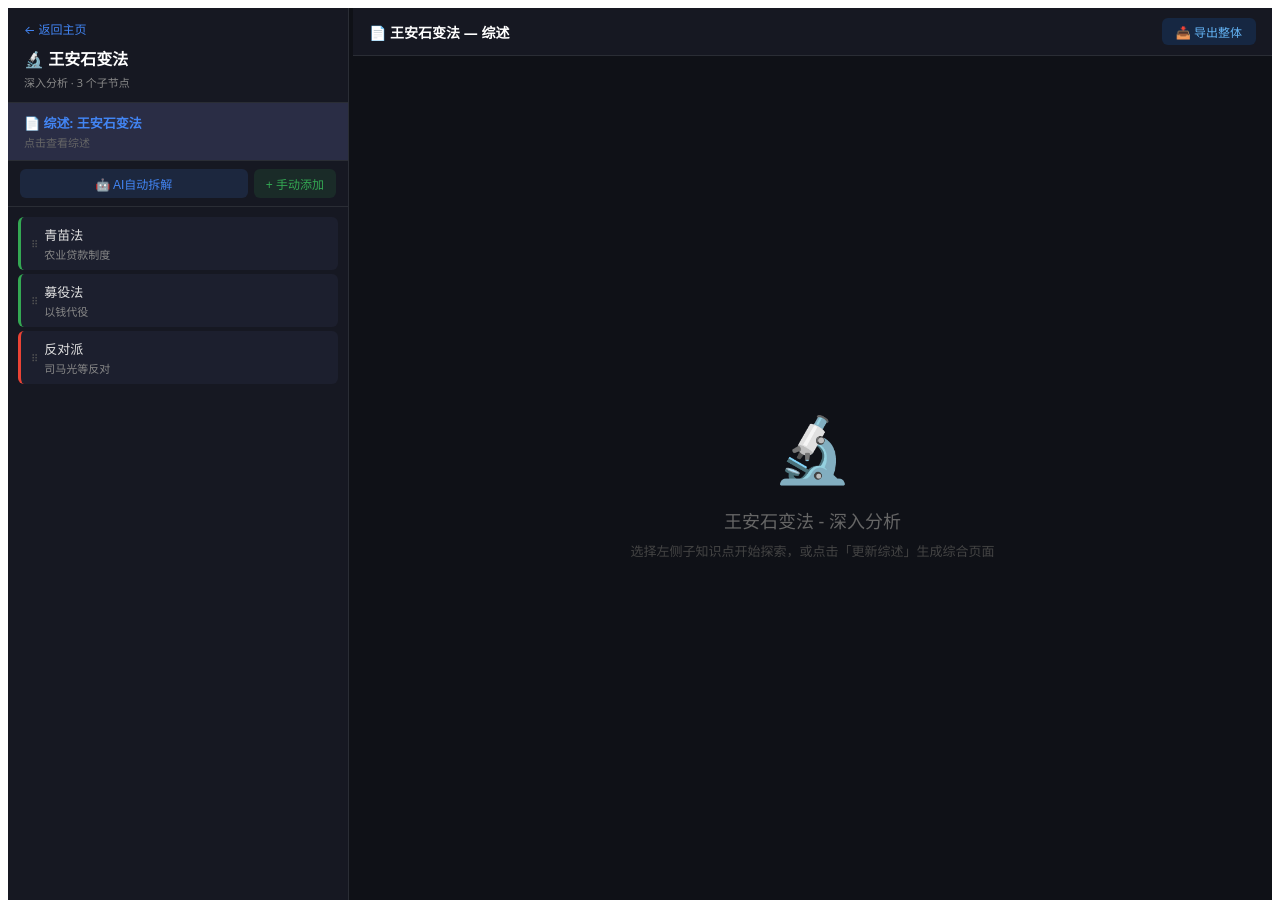
Test case: DeepAnalysis Component › Actions › toggles add child form
Click the button "+ 手动添加".
click(295, 184)  # box [254, 169, 336, 198]
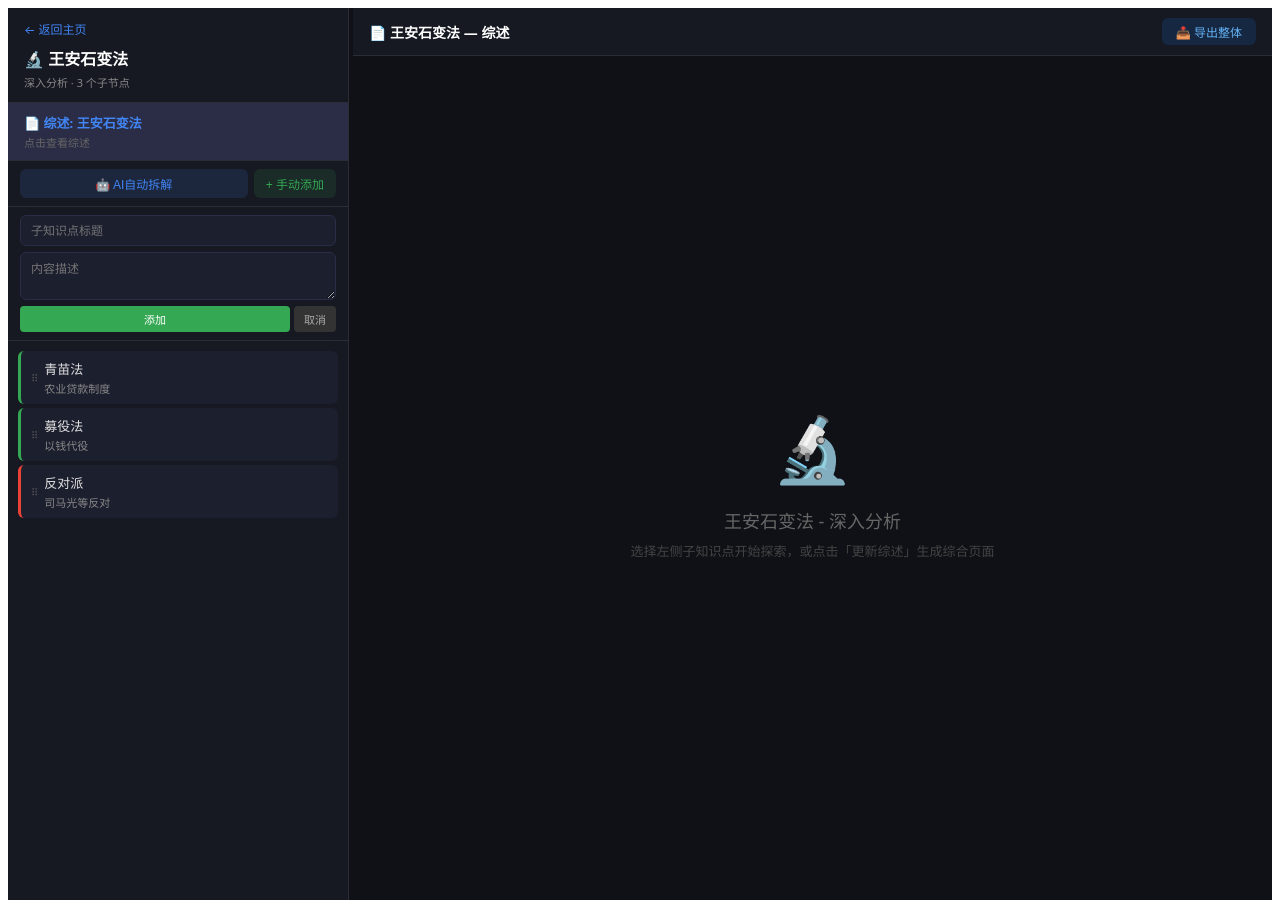
Now the field with placeholder "子知识点标题" is shown, box [20, 215, 336, 246]
